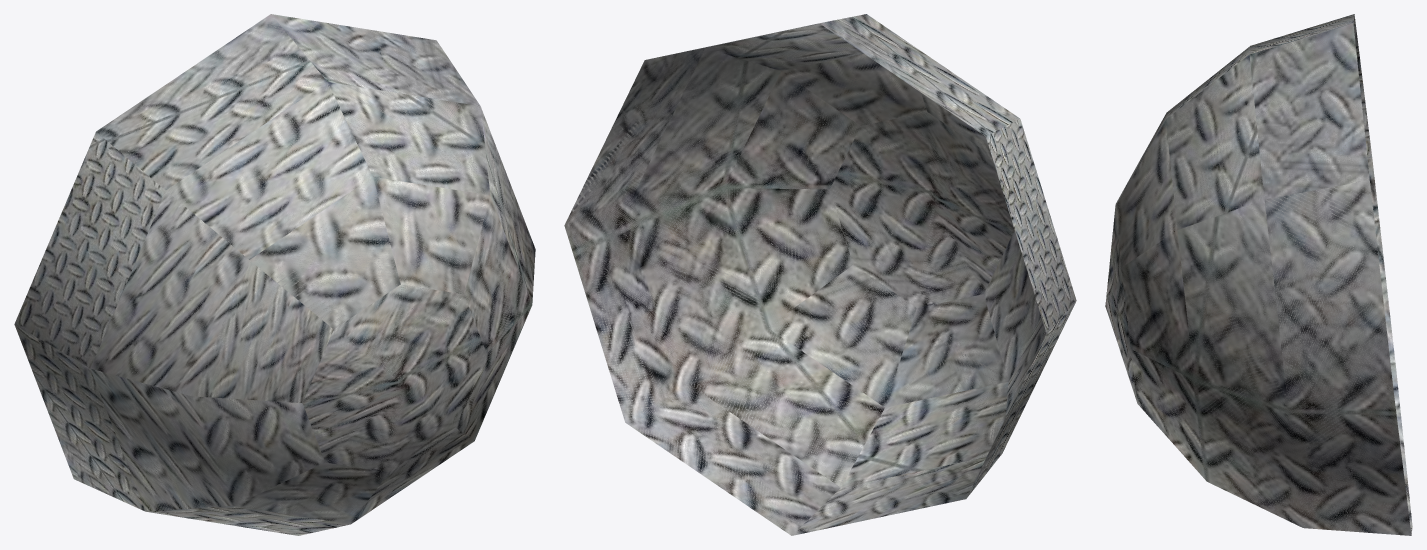
File: original-39.obj
3 renders of one model, left to right at view 1: azimuth 30°, elevation 25°; view 2: azimuth 150°, elevation 25°; view 3: azimuth 270°, elevation 25°, orthographic. The views are drawn at different scales.
Parts seen in each view (by area): view 1: pSphere9/ID336#ID336; view 2: pSphere9/ID336#ID336; view 3: pSphere9/ID336#ID336.
Part boxes in pixels (x1=…): pSphere9/ID336#ID336: x1=14, y1=14, x2=535, y2=535; pSphere9/ID336#ID336: x1=564, y1=14, x2=1076, y2=535; pSphere9/ID336#ID336: x1=1105, y1=14, x2=1412, y2=535.
Bounding box in the file's own units: 0.0417 × 0.0415 × 0.0229.
Materials: 2 (2 with a texture image).
